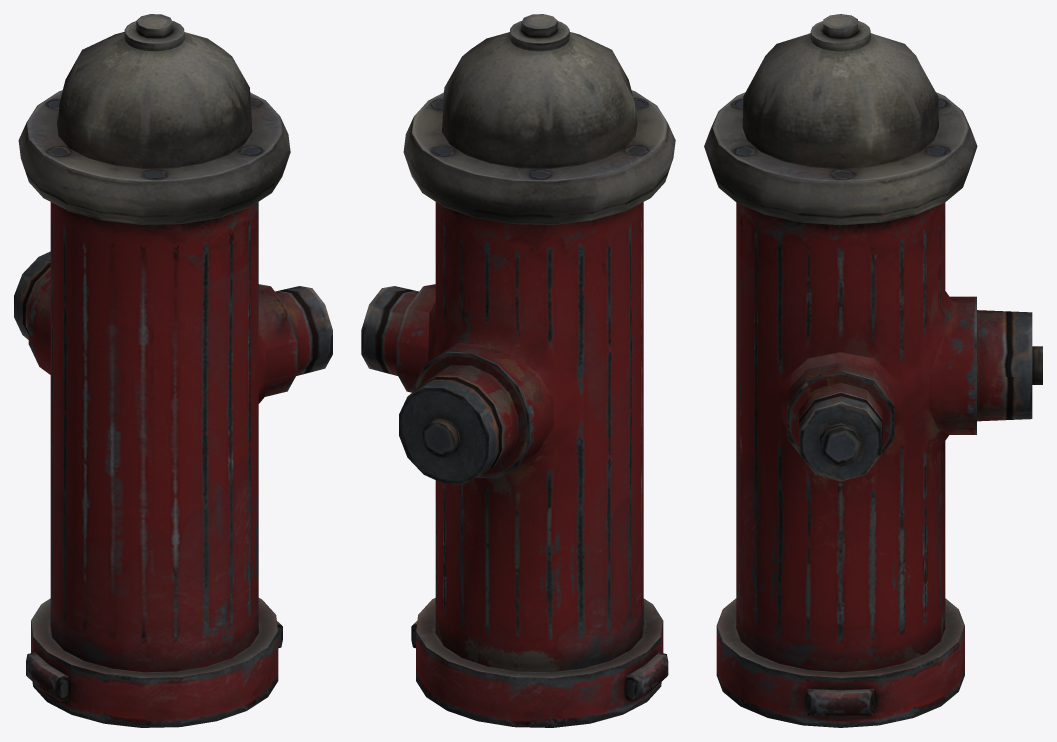
Rendered from fire_hydrant.glb.
3 views of the same model, side by side, from view 1: azimuth 30°, elevation 25°; view 2: azimuth 150°, elevation 25°; view 3: azimuth 270°, elevation 25° (orthographic).
Visible parts, largest first — view 1: Object_2; view 2: Object_2; view 3: Object_2.
Boxes of the visible parts, x1,y1,x2,y2 form: Object_2: (14, 14, 332, 727); Object_2: (361, 14, 675, 727); Object_2: (704, 14, 1042, 727).
Size of the model in its own units: 37.26 by 81.67 by 38.36.
Materials: 1 (1 with a texture image).
